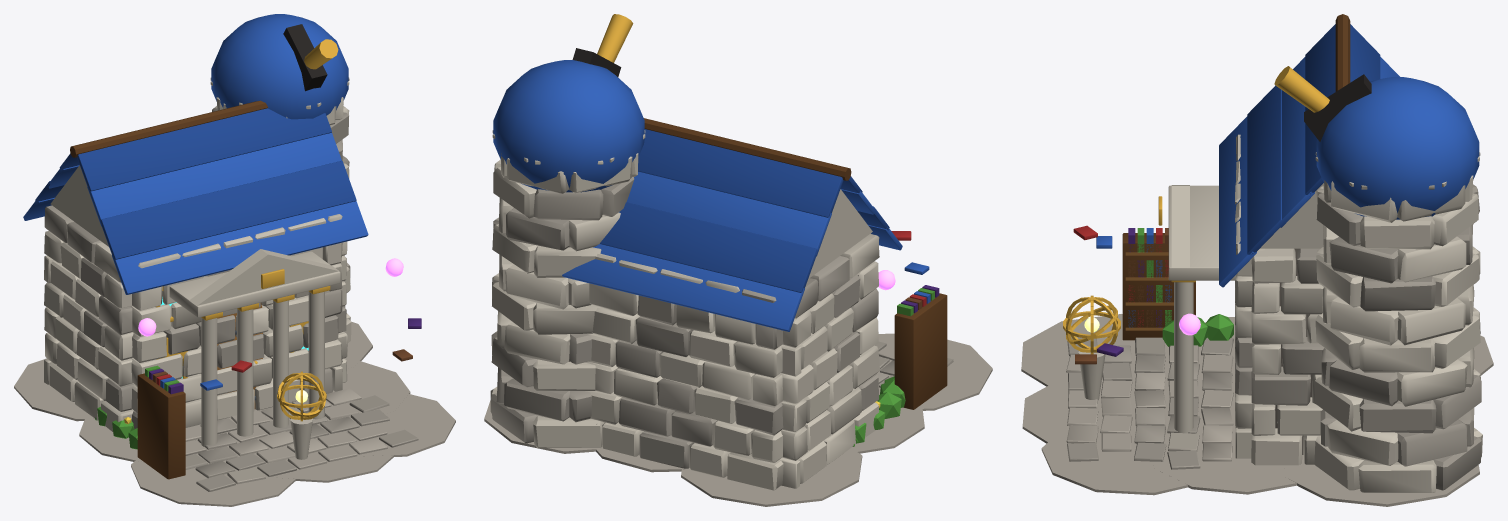
Rendered from akademia_poz19.glb.
The picture shows the model from 3 angles, left to right: view 1: azimuth 30°, elevation 25°; view 2: azimuth 150°, elevation 25°; view 3: azimuth 270°, elevation 25°; orthographic projection. The views are drawn at different scales.
Visible parts, largest first — view 1: akademia_poz19; view 2: akademia_poz19; view 3: akademia_poz19.
Part boxes in pixels (box(x1,y1,x2,y2)): akademia_poz19: box(14, 14, 455, 506); akademia_poz19: box(484, 14, 992, 506); akademia_poz19: box(1021, 14, 1493, 506).
Bounding box in the file's own units: 7.38 × 7.28 × 7.72.
